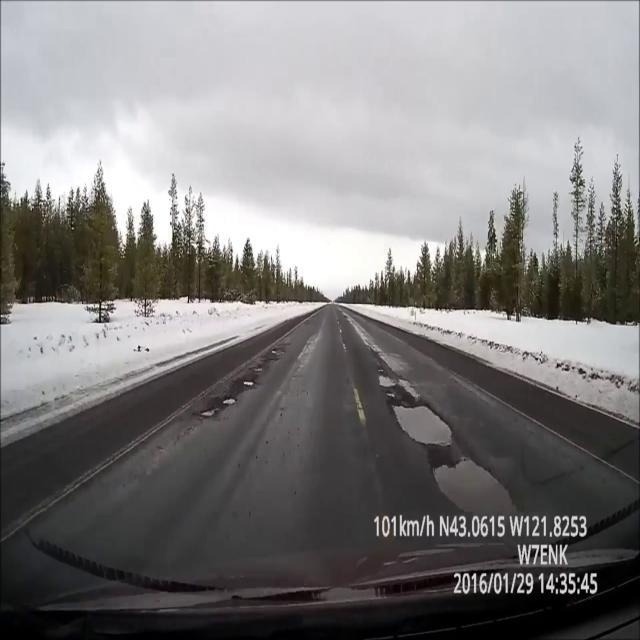pothole: (420, 446, 526, 534), (382, 387, 464, 457), (186, 379, 250, 431), (236, 338, 288, 396), (368, 356, 419, 404)
